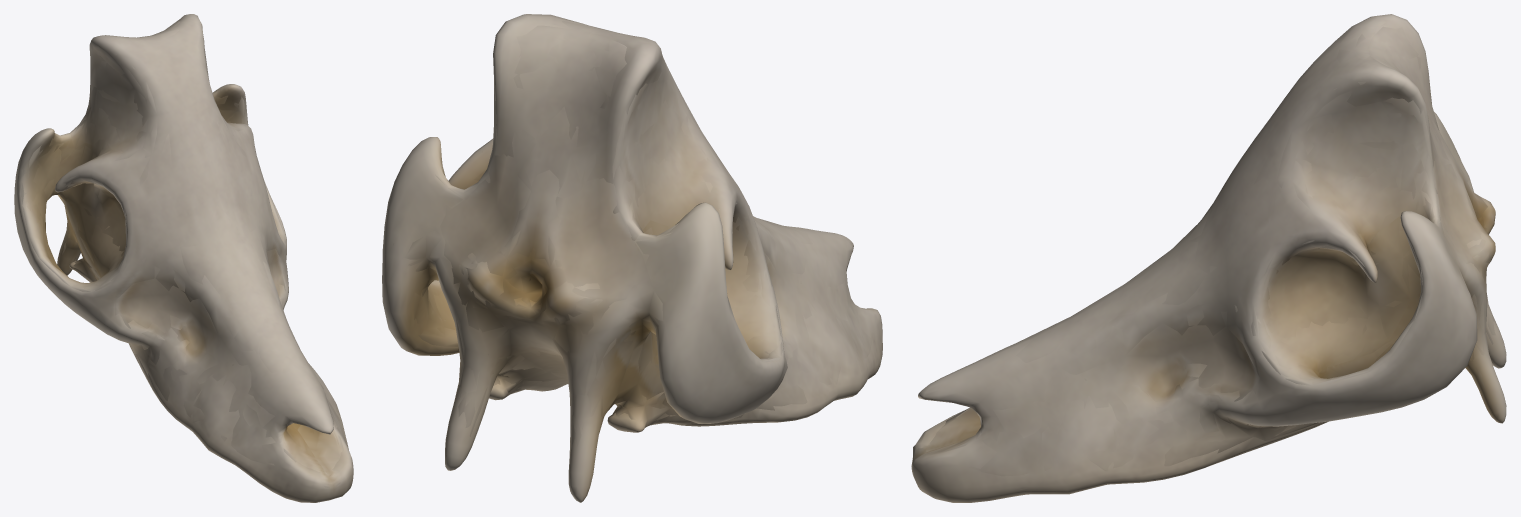
File: Maxilla.fbx
3 renders of one model, left to right at view 1: azimuth 30°, elevation 25°; view 2: azimuth 150°, elevation 25°; view 3: azimuth 270°, elevation 25°, orthographic. The views are drawn at different scales.
Visible parts, largest first — view 1: Maxilla, Maxilla low; view 2: Maxilla, Maxilla low; view 3: Maxilla, Maxilla low.
Boxes of the visible parts, <box> form: Maxilla: <box>14,14,353,502</box>; Maxilla low: <box>21,19,345,488</box>; Maxilla: <box>382,14,882,502</box>; Maxilla low: <box>393,21,873,453</box>; Maxilla: <box>911,14,1506,502</box>; Maxilla low: <box>912,26,1495,494</box>.
Bounding box in the file's own units: 11.1 × 15.35 × 18.67.
Materials: 1 (1 with a texture image).
